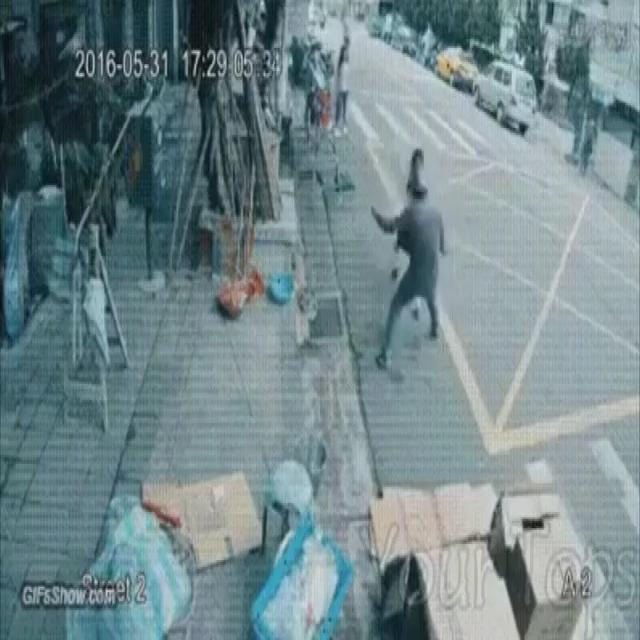fight: (368, 142, 454, 380)
